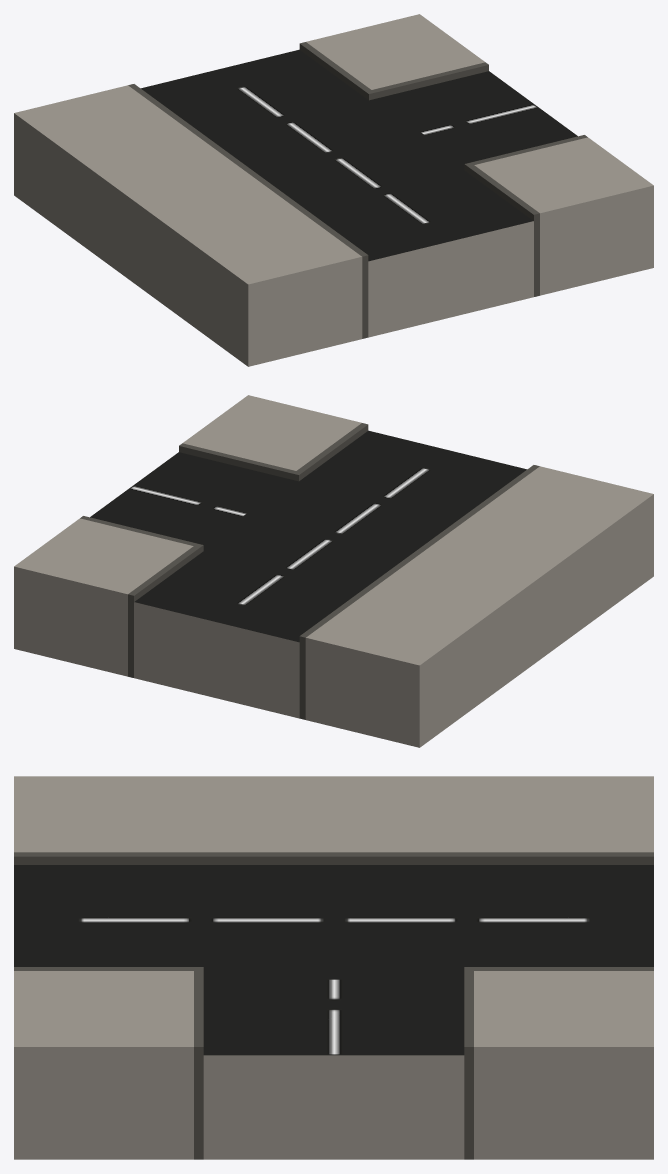
The model's file is Road_Road05.fbx.
3 renders of one model, top to bottom at view 1: azimuth 30°, elevation 25°; view 2: azimuth 150°, elevation 25°; view 3: azimuth 270°, elevation 25°, orthographic. The views are drawn at different scales.
Parts seen in each view (by area): view 1: Road_Road05; view 2: Road_Road05; view 3: Road_Road05.
Part boxes in pixels (bbox=[...]): Road_Road05: bbox=[14, 14, 653, 366]; Road_Road05: bbox=[14, 395, 653, 747]; Road_Road05: bbox=[14, 776, 653, 1159].
Bounding box in the file's own units: 1696 × 329 × 1696.
